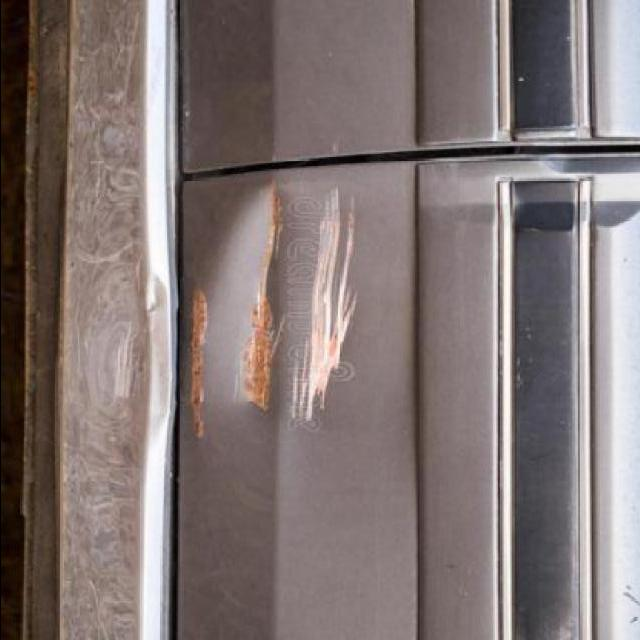RunningBoard-Dent: (78, 245, 174, 485)
doorouter-dent: (184, 180, 370, 452)
